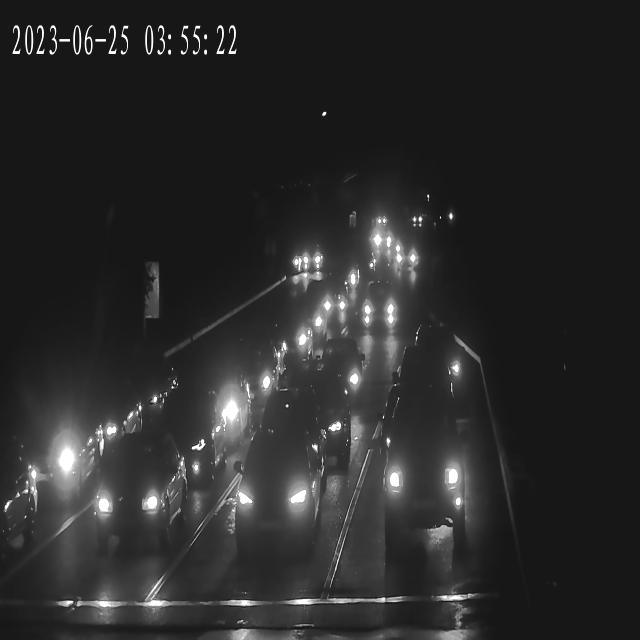Car: (0, 387, 103, 516), (92, 434, 186, 558), (233, 437, 322, 561), (379, 420, 468, 529), (141, 388, 226, 492), (265, 389, 349, 467), (97, 362, 179, 439), (207, 339, 287, 405), (392, 352, 458, 426), (0, 442, 38, 567), (416, 318, 464, 394), (256, 319, 316, 371), (322, 342, 369, 406), (285, 304, 330, 344), (357, 290, 399, 332), (308, 288, 348, 320), (387, 242, 418, 266), (392, 244, 420, 268), (391, 248, 418, 272), (370, 232, 396, 252), (368, 228, 394, 248), (340, 269, 362, 290), (287, 272, 309, 290), (303, 261, 321, 274), (304, 259, 322, 272), (409, 214, 425, 228), (374, 214, 391, 227), (306, 255, 324, 267), (290, 254, 306, 266), (290, 259, 306, 271)
